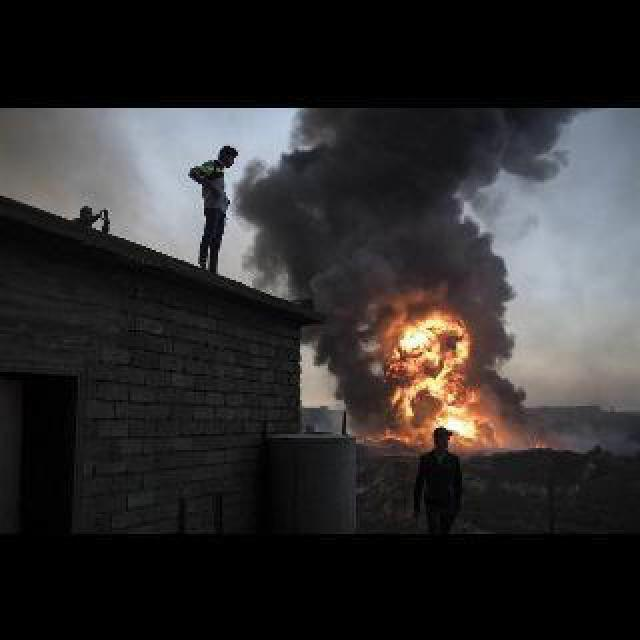Fire: (378, 294, 500, 448), (534, 438, 546, 446)
Smoke: (236, 106, 604, 306)
